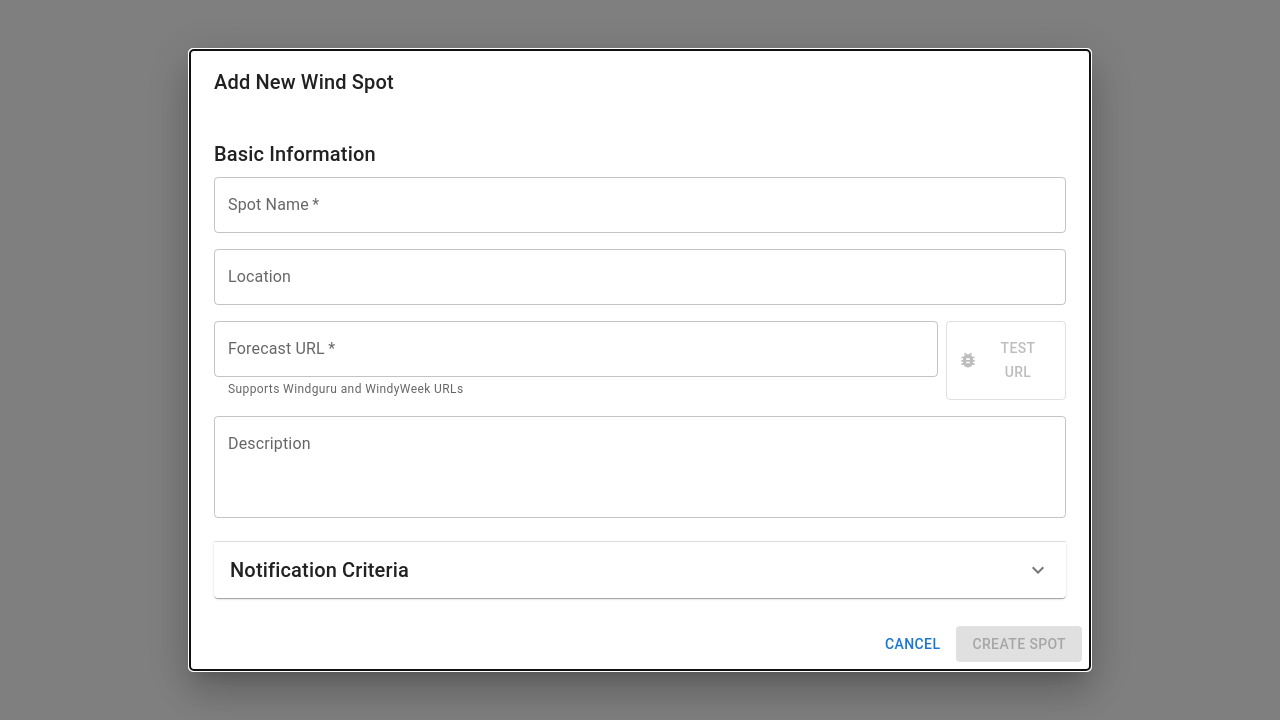
AddSpotDialog › Save button is enabled when both name and URL are filled
Type "My Spot" into the field labelled "Spot Name *" at (640, 205), box [214,177,1066,233]
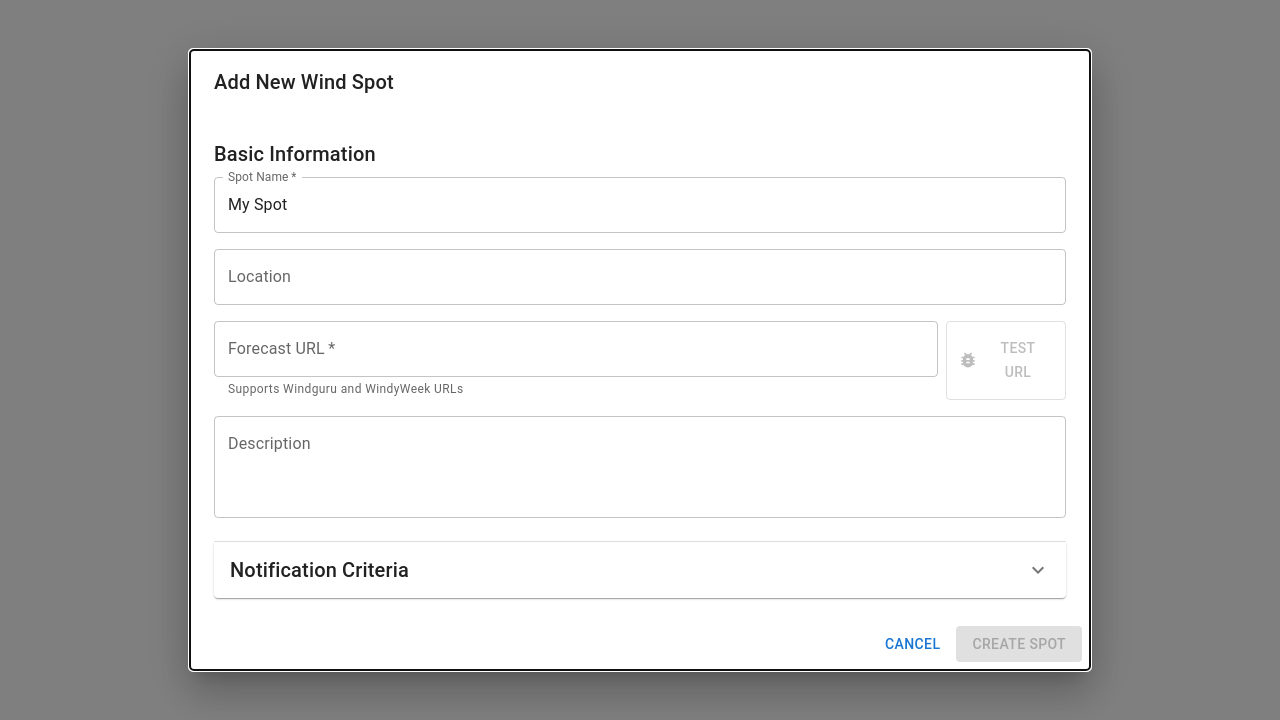
Replace the text in the field labelled "Forecast URL *" with "https://www.windguru.cz/2346" at (576, 349), box [214,321,938,377]
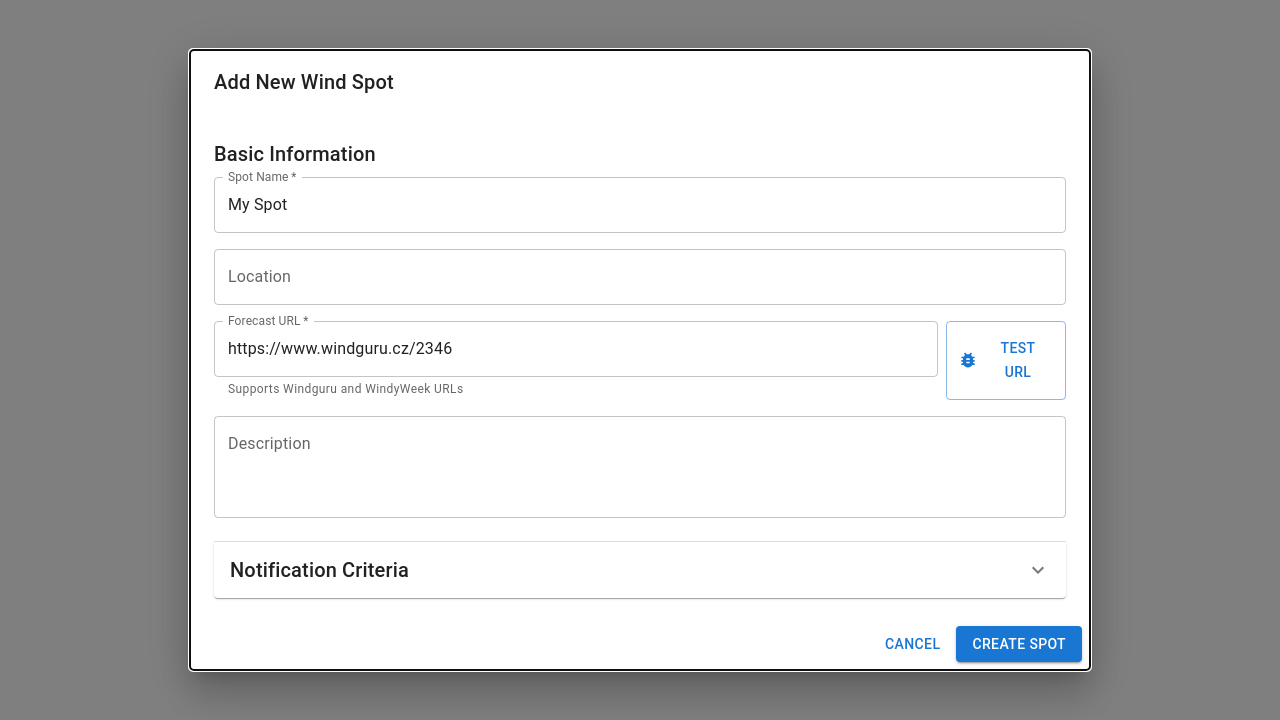
Check: the button "Create Spot" is enabled, box [956,626,1082,662]
